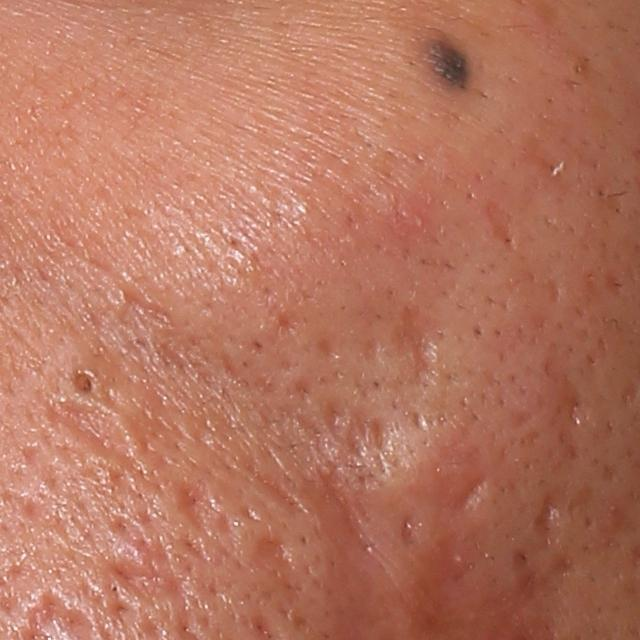atrophic_scar: (33, 394, 147, 473), (99, 505, 179, 580), (317, 404, 394, 459), (111, 282, 183, 334), (395, 310, 446, 383), (107, 556, 180, 601), (455, 470, 495, 523), (529, 490, 568, 543), (478, 195, 512, 245), (253, 532, 294, 570), (558, 378, 586, 431), (309, 328, 342, 365), (394, 514, 420, 554)
comedo: (65, 360, 101, 396)
nevus: (419, 36, 465, 89)
